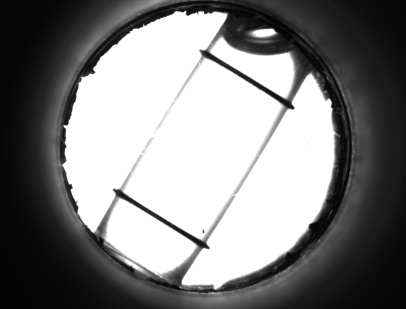line: (121, 201, 197, 235), (210, 62, 283, 94)
